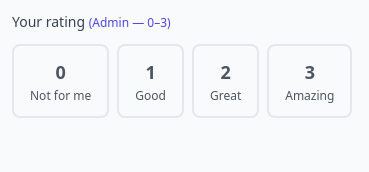
AdminRatingWidget › updates selected rating to 3 after successful submission
The width and height of the screenshot is (369, 172).
Click the text "3" at coordinates (310, 72), box [305,58,315,86]
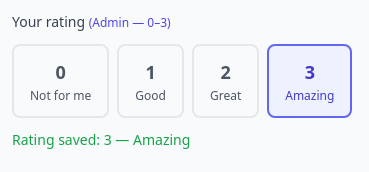
Check: the text "Rating saved: 3 — Amazing" is shown, box [12,130,190,149]
